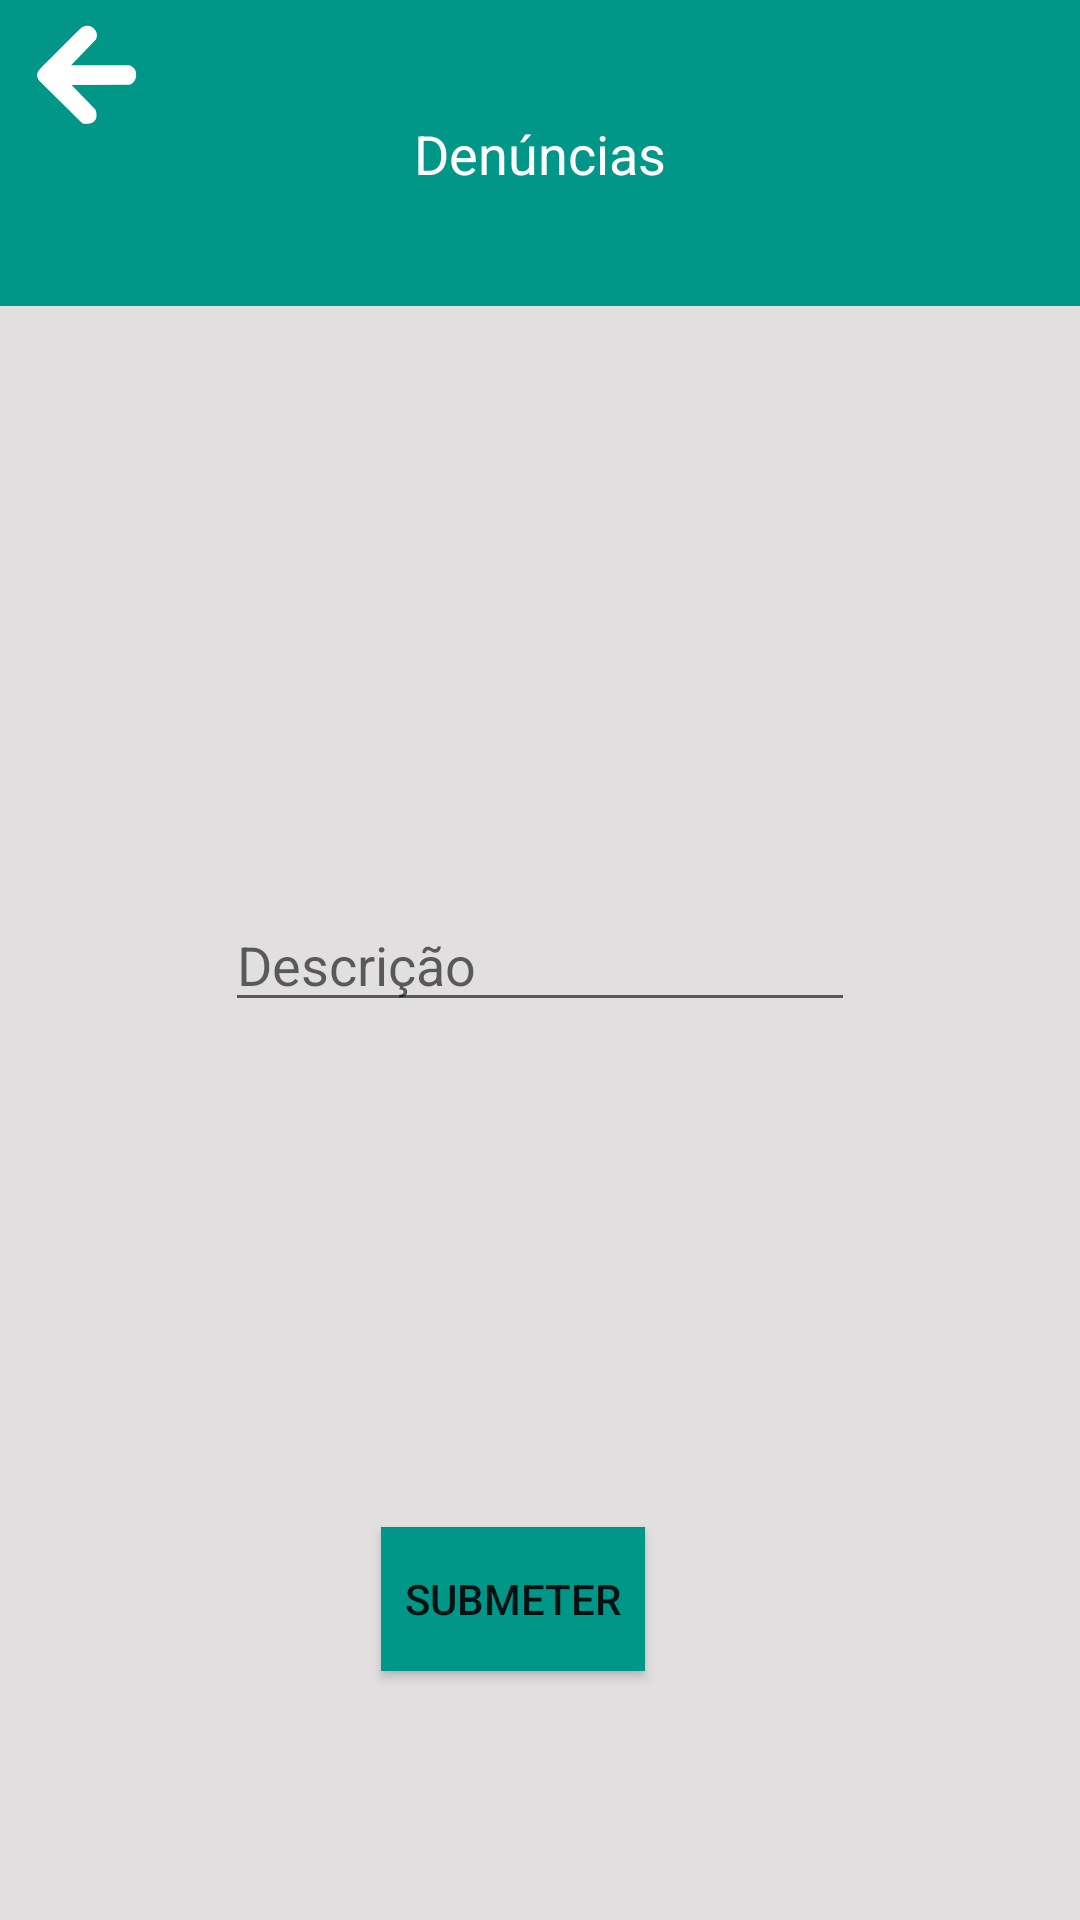

Where to tap for icons on this 1080px x 1920px app screen, as (x=x, y=y):
seta: (x=87, y=74)
